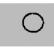no answer: (21, 11, 45, 34)
